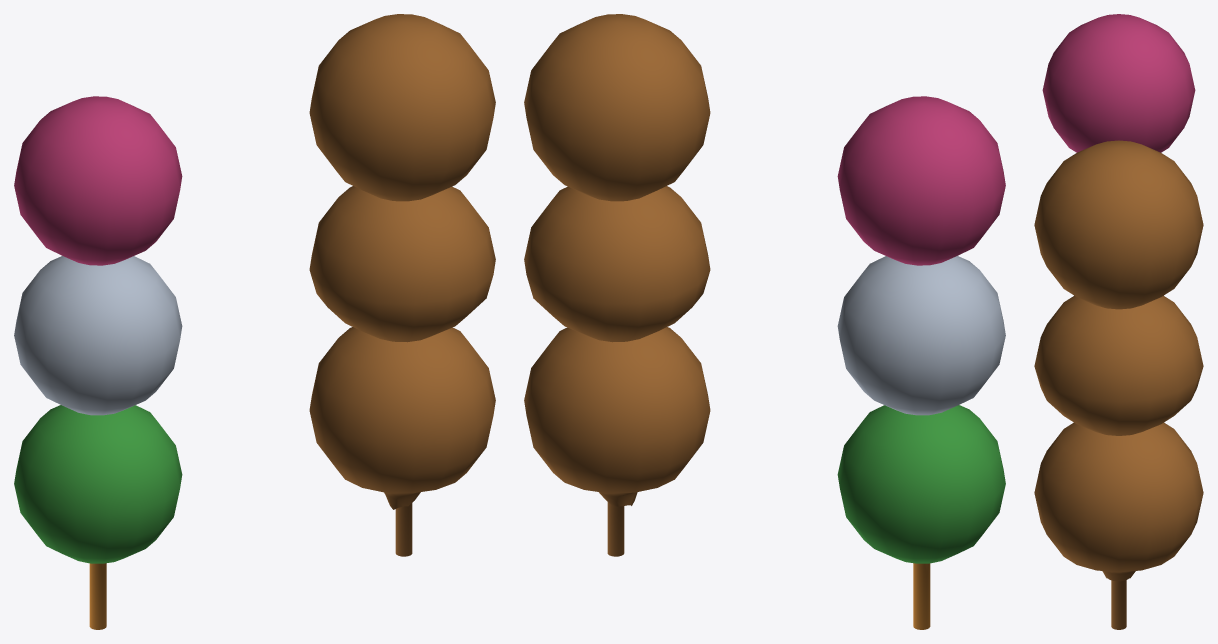
File: dango.fbx
The picture shows the model from 3 angles, left to right: view 1: azimuth 30°, elevation 25°; view 2: azimuth 150°, elevation 25°; view 3: azimuth 270°, elevation 25°; orthographic projection. The views are drawn at different scales.
Visible parts, largest first — view 1: mita1, Sphere, Sphere.001, Sphere.002, Kushi, Kushi_mita; view 2: mita1, Sphere, Sphere.001, Sphere.002, Kushi, Kushi_mita; view 3: mita1, Sphere, Kushi_mita.
Part boxes in pixels (<box>): mita1: <box>309,14,495,509</box>; Sphere: <box>14,96,182,265</box>; Sphere.001: <box>14,256,182,415</box>; Sphere.002: <box>14,405,182,563</box>; Kushi: <box>89,563,106,629</box>; Kushi_mita: <box>395,503,412,556</box>; mita1: <box>524,14,710,506</box>; Sphere: <box>837,96,1005,265</box>; Sphere.001: <box>837,256,1005,415</box>; Sphere.002: <box>837,405,1005,563</box>; Kushi: <box>913,563,930,629</box>; Kushi_mita: <box>607,502,624,556</box>; mita1: <box>1034,140,1203,581</box>; Sphere: <box>1042,14,1195,152</box>; Kushi_mita: <box>1111,580,1126,629</box>.
Size of the model in its own units: 0.3126 by 0.3452 by 0.1108.
